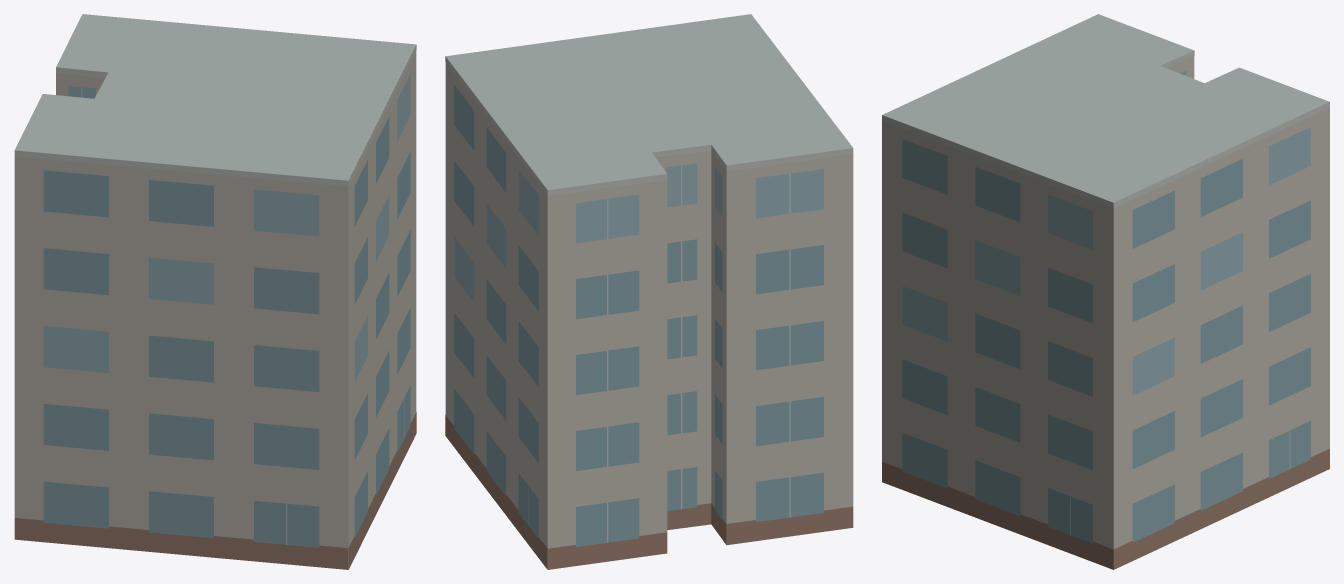
File: survey-upis-32537811.glb
3 views of the same model, side by side, from view 1: azimuth 30°, elevation 25°; view 2: azimuth 150°, elevation 25°; view 3: azimuth 270°, elevation 25° (orthographic). The views are drawn at different scales.
Parts seen in each view (by area): view 1: survey-upis-32537811.tmp; view 2: survey-upis-32537811.tmp; view 3: survey-upis-32537811.tmp.
Part boxes in pixels (x1,y1,x2,y2): survey-upis-32537811.tmp: (14,14,416,569); survey-upis-32537811.tmp: (445,14,853,569); survey-upis-32537811.tmp: (882,14,1329,569).
Size of the model in its own units: 17.63 by 15.98 by 17.67.
